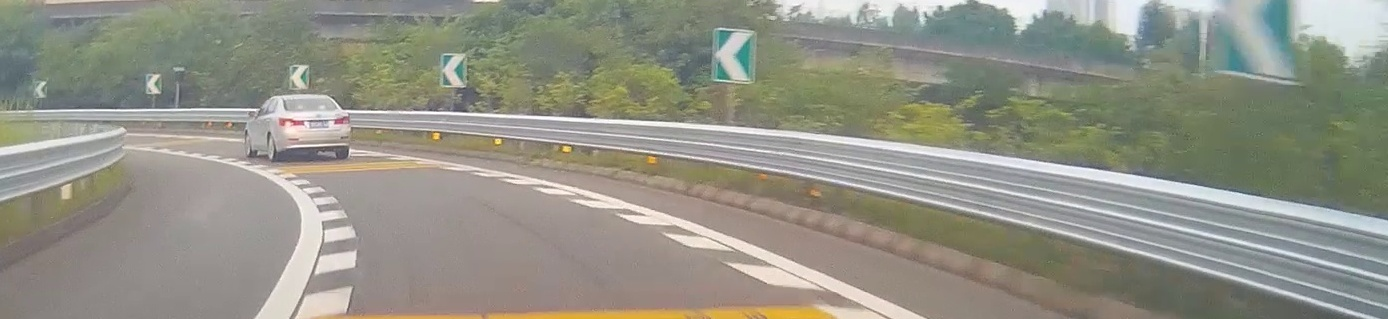L_light: (278, 118, 305, 126)
R_light: (334, 116, 349, 124)
T_light: (308, 107, 320, 111)
day-left: (277, 94, 350, 161)
